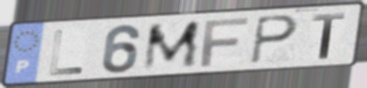6: (99, 23, 143, 75)
F: (198, 16, 251, 68)
L: (47, 28, 85, 77)
M: (140, 19, 203, 73)
P: (249, 14, 300, 67)
T: (310, 11, 347, 61)
